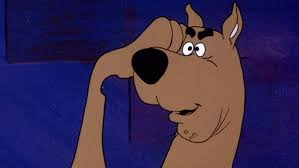scooby: (70, 1, 247, 168)
